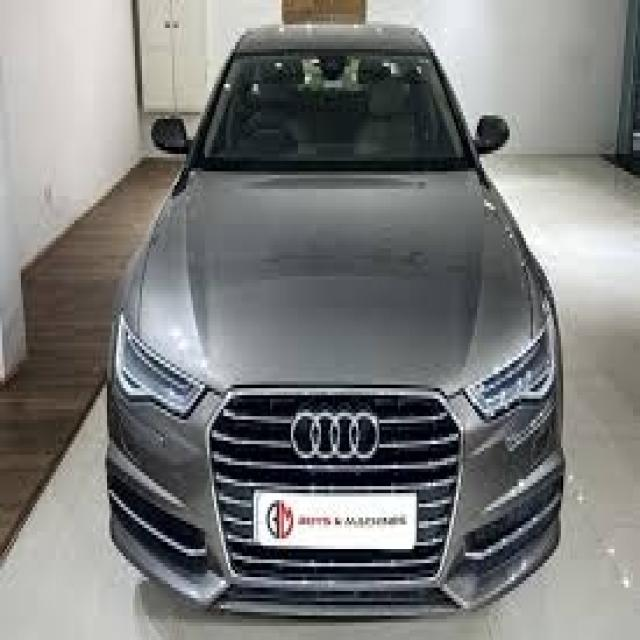black: (108, 18, 560, 609)
